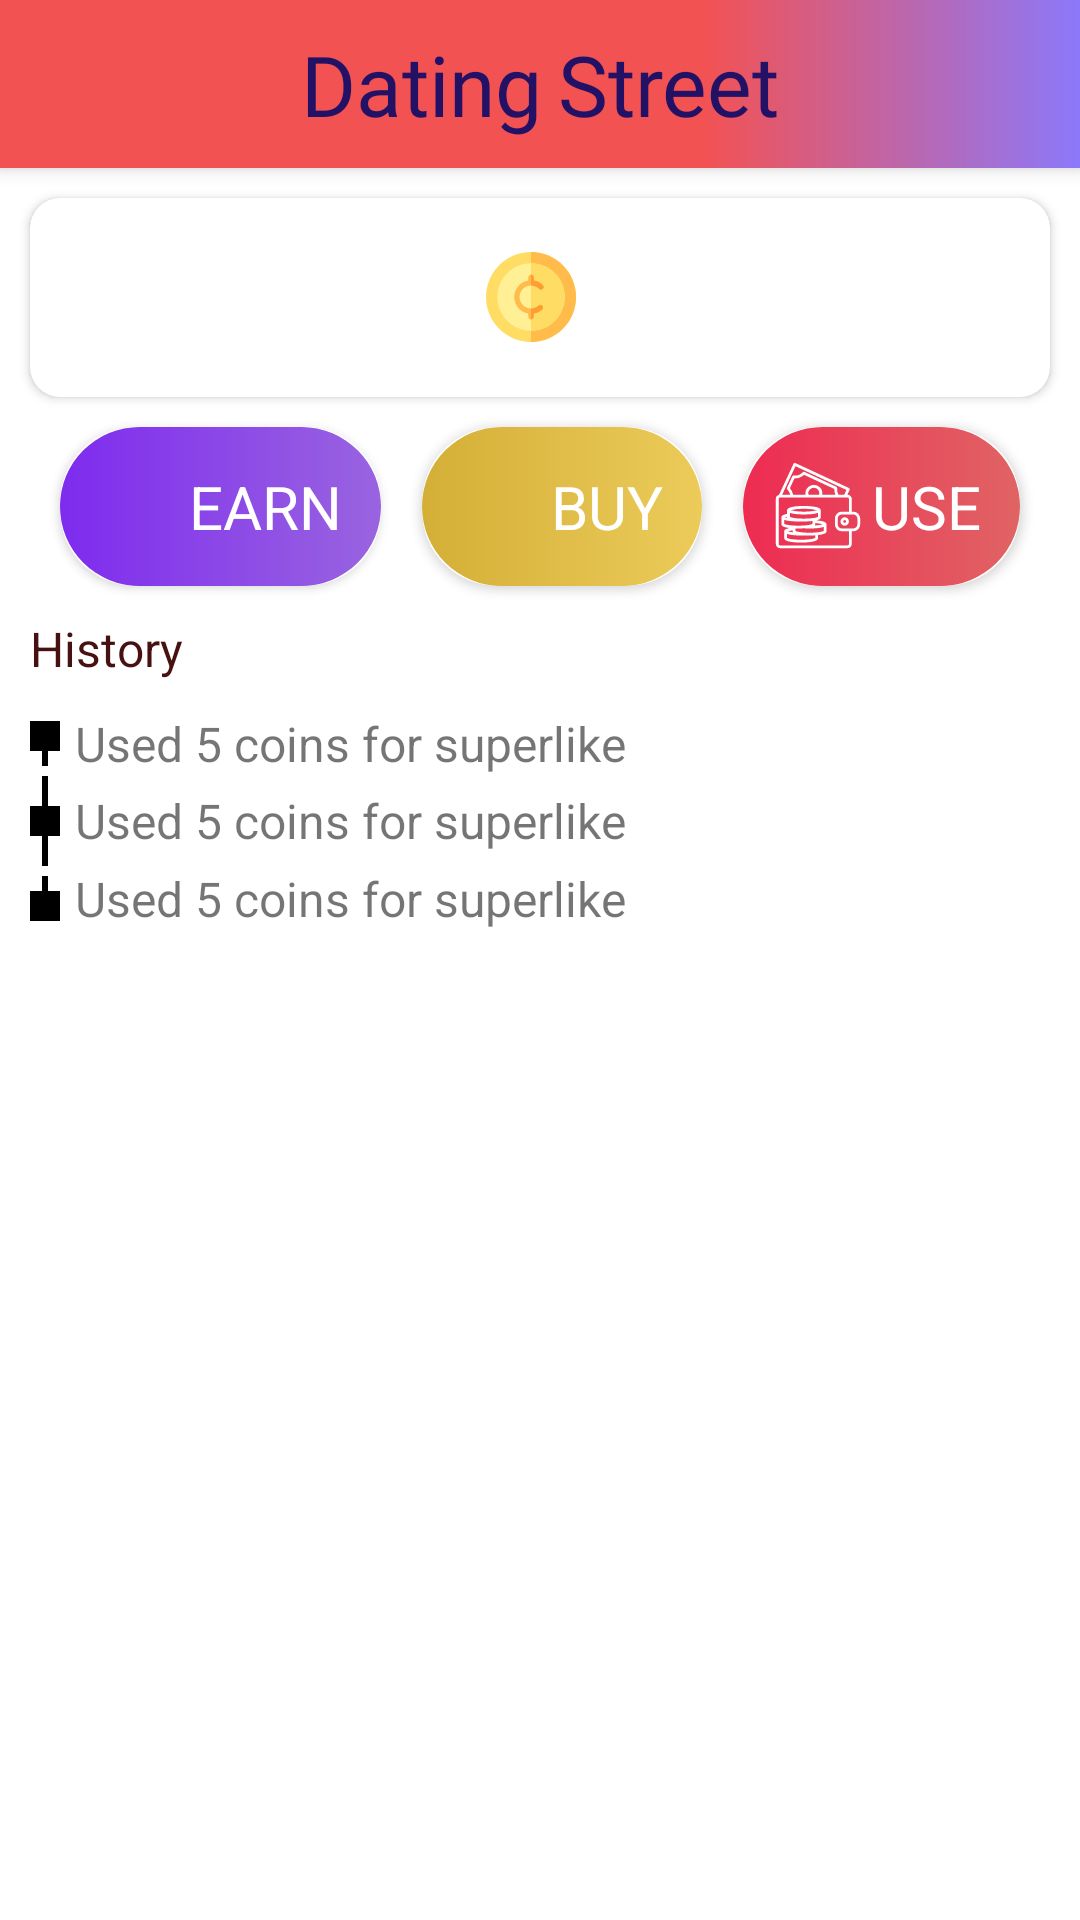

Icons on this 1080*1920 Android screen, each with its box as (x1, y1, x2, y2):
cent: (486, 252, 576, 342)
wallet: (775, 461, 863, 551)
